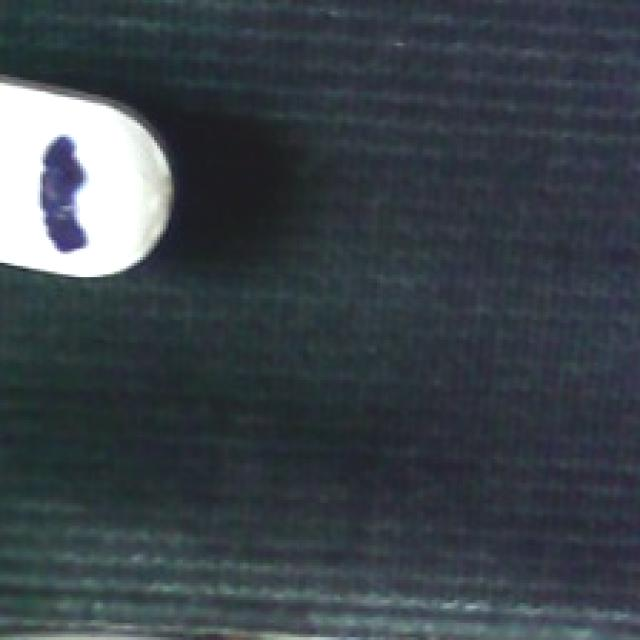defected: (3, 69, 186, 280)
